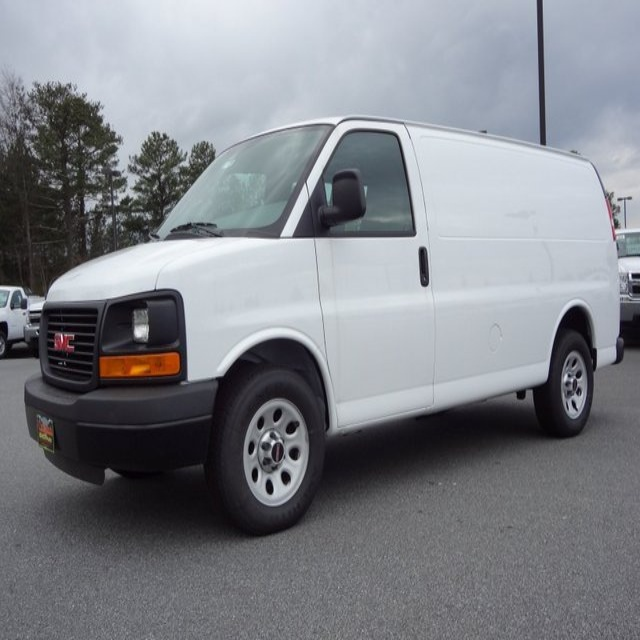Van: (25, 113, 623, 535)
